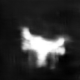plane: (19, 24, 72, 71)
